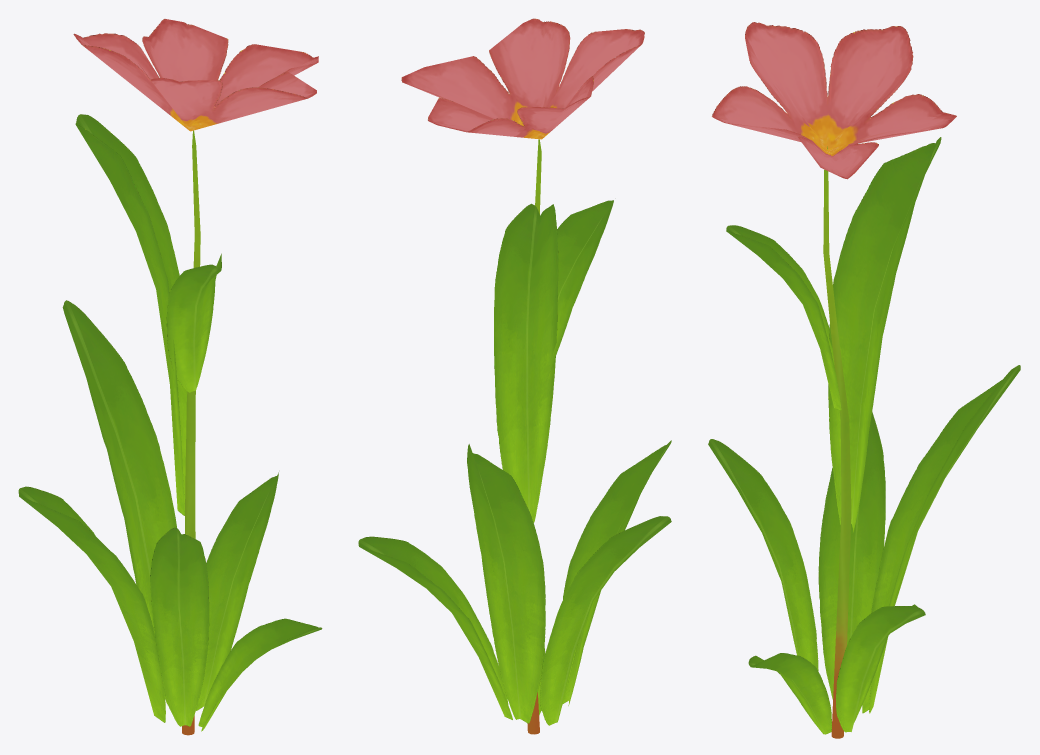
File: flower_3_single.gltf
3 renders of one model, left to right at view 1: azimuth 30°, elevation 25°; view 2: azimuth 150°, elevation 25°; view 3: azimuth 270°, elevation 25°, orthographic. The views are drawn at different scales.
Visible parts, largest first — view 1: flower_3_single; view 2: flower_3_single; view 3: flower_3_single.
Part boxes in pixels (x1,y1,x2,y2): flower_3_single: [18, 19, 322, 735]; flower_3_single: [358, 18, 671, 734]; flower_3_single: [708, 22, 1020, 738].
Size of the model in its own units: 0.9066 by 2.07 by 0.8775.
2 materials, 2 textured.
